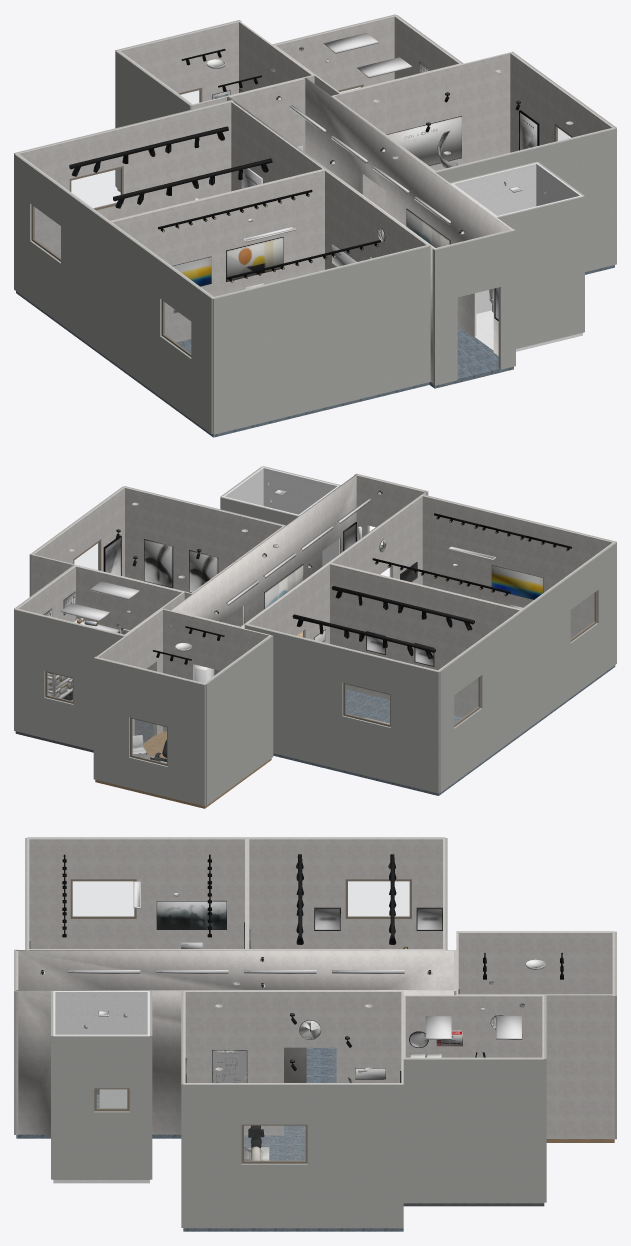
The model's file is scene_named.glb.
The picture shows the model from 3 angles, top to bottom: view 1: azimuth 30°, elevation 25°; view 2: azimuth 150°, elevation 25°; view 3: azimuth 270°, elevation 25°; orthographic projection. The views are drawn at different scales.
Visible parts, largest first — view 1: south_wall_exterior_exhibition_room/south_wall_exterior_exhi, north_wall_exhibition_room/north_wall_exhibition_room/geomet, west_wall_exterior_exhibition_room/west_wall_exterior_exhibi, north_wall_exhibition_room_3/north_wall_exhibition_room_3/ge, east_wall_hallway/east_wall_hallway/geometry_0, west_wall_exterior_exhibition_room_3/west_wall_exterior_exhi, north_wall_exhibition_room_2/north_wall_exhibition_room_2/ge, south_wall_exterior_bathroom/south_wall_exterior_bathroom/ge, south_wall_exterior_hallway/south_wall_exterior_hallway/geom, south_wall_exterior_exhibition_room_2/south_wall_exterior_ex, north_wall_office/north_wall_office/geometry_0, east_wall_exhibition_room/east_wall_exhibition_room/geometry (+25 smaller); view 2: north_wall_exterior_exhibition_room_3/north_wall_exterior_ex, north_wall_exterior_office/north_wall_exterior_office/geomet, south_wall_exhibition_room/south_wall_exhibition_room/geomet, south_wall_exhibition_room_3/south_wall_exhibition_room_3/ge, west_wall_exterior_exhibition_room/west_wall_exterior_exhibi, west_wall_exterior_exhibition_room_3/west_wall_exterior_exhi, north_wall_exterior_storage/north_wall_exterior_storage/geom, west_wall_exterior_office/west_wall_exterior_office/geometry, east_wall_hallway/east_wall_hallway/geometry_0, south_wall_exhibition_room_2/south_wall_exhibition_room_2/ge, south_wall_office/south_wall_office/geometry_0, east_wall_exhibition_room/east_wall_exhibition_room/geometry (+28 smaller); view 3: east_wall_exterior_exhibition_room_2/east_wall_exterior_exhi, east_wall_exterior_storage/east_wall_exterior_storage/geomet, west_wall_exhibition_room/west_wall_exhibition_room/geometry, west_wall_exhibition_room_3/west_wall_exhibition_room_3/geom, west_wall_hallway/west_wall_hallway/geometry_0, west_wall_exhibition_room_2/west_wall_exhibition_room_2/geom, east_wall_exterior_bathroom/east_wall_exterior_bathroom/geom, east_wall_office/east_wall_office/geometry_0, west_wall_office/west_wall_office/geometry_0, east_wall_hallway/east_wall_hallway/geometry_0, west_wall_storage/west_wall_storage/geometry_0, west_wall_bathroom/west_wall_bathroom/geometry_0 (+26 smaller).
Part boxes in pixels (x1,y1,x2,y2): south_wall_exterior_exhibition_room/south_wall_exterior_exhi: (212, 245, 430, 434); north_wall_exhibition_room/north_wall_exhibition_room/geomet: (110, 169, 325, 342); west_wall_exterior_exhibition_room/west_wall_exterior_exhibi: (107, 222, 212, 434); north_wall_exhibition_room_3/north_wall_exhibition_room_3/ge: (15, 100, 233, 257); east_wall_hallway/east_wall_hallway/geometry_0: (304, 78, 513, 355); west_wall_exterior_exhibition_room_3/west_wall_exterior_exhi: (14, 154, 108, 357); north_wall_exhibition_room_2/north_wall_exhibition_room_2/ge: (332, 52, 511, 211); south_wall_exterior_bathroom/south_wall_exterior_bathroom/ge: (497, 196, 584, 348); south_wall_exterior_hallway/south_wall_exterior_hallway/geom: (434, 229, 515, 385); south_wall_exterior_exhibition_room_2/south_wall_exterior_ex: (435, 128, 616, 271); north_wall_office/north_wall_office/geometry_0: (117, 20, 241, 101); east_wall_exhibition_room/east_wall_exhibition_room/geometry: (325, 169, 427, 269); north_wall_exterior_exhibition_room_3/north_wall_exterior_ex: (244, 624, 439, 793); north_wall_exterior_office/north_wall_exterior_office/geomet: (93, 657, 205, 806); south_wall_exhibition_room/south_wall_exhibition_room/geomet: (420, 495, 615, 638); south_wall_exhibition_room_3/south_wall_exhibition_room_3/ge: (328, 563, 521, 717); west_wall_exterior_exhibition_room/west_wall_exterior_exhibi: (522, 542, 616, 731); west_wall_exterior_exhibition_room_3/west_wall_exterior_exhi: (439, 610, 523, 792); north_wall_exterior_storage/north_wall_exterior_storage/geom: (14, 609, 125, 749); west_wall_exterior_office/west_wall_exterior_office/geometry: (205, 635, 273, 805); east_wall_hallway/east_wall_hallway/geometry_0: (170, 474, 356, 675); south_wall_exhibition_room_2/south_wall_exhibition_room_2/ge: (125, 487, 283, 626); south_wall_office/south_wall_office/geometry_0: (162, 608, 270, 731); east_wall_exhibition_room/east_wall_exhibition_room/geometry: (329, 496, 422, 584); east_wall_exterior_exhibition_room_2/east_wall_exterior_exhi: (183, 1084, 403, 1228); east_wall_exterior_storage/east_wall_exterior_storage/geomet: (403, 1058, 544, 1203); west_wall_exhibition_room/west_wall_exhibition_room/geometry: (29, 838, 244, 948); west_wall_exhibition_room_3/west_wall_exhibition_room_3/geom: (249, 838, 442, 948); west_wall_hallway/west_wall_hallway/geometry_0: (16, 950, 456, 1094); west_wall_exhibition_room_2/west_wall_exhibition_room_2/geom: (183, 991, 401, 1135); east_wall_exterior_bathroom/east_wall_exterior_bathroom/geom: (53, 1035, 149, 1179); east_wall_office/east_wall_office/geometry_0: (456, 994, 614, 1138); west_wall_office/west_wall_office/geometry_0: (456, 932, 612, 1057); east_wall_hallway/east_wall_hallway/geometry_0: (16, 990, 456, 1134); west_wall_storage/west_wall_storage/geometry_0: (403, 995, 543, 1057); west_wall_bathroom/west_wall_bathroom/geometry_0: (55, 991, 147, 1108).
Size of the model in its own units: 13.3 by 3.7 by 13.7.
Materials: 132 (122 with a texture image).
